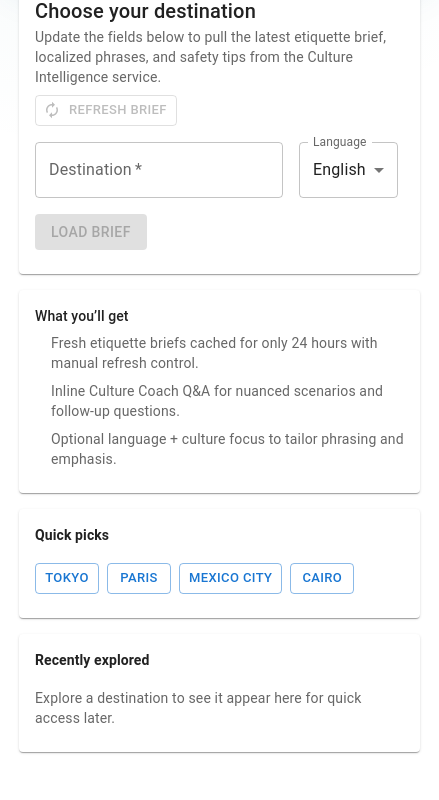
Test: CulturalGuide › sets destination from quick pick
(page scrolled)
What coordinates should you click on to do the following:
click the button "Tokyo"
I would click on:
 (67, 579)
Its box is [35, 563, 99, 594].
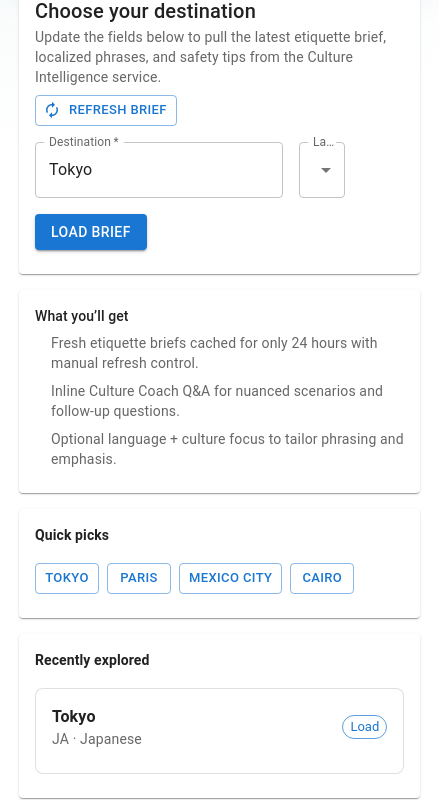
Result: the field showing "Tokyo" is shown at [35, 142, 283, 198]
